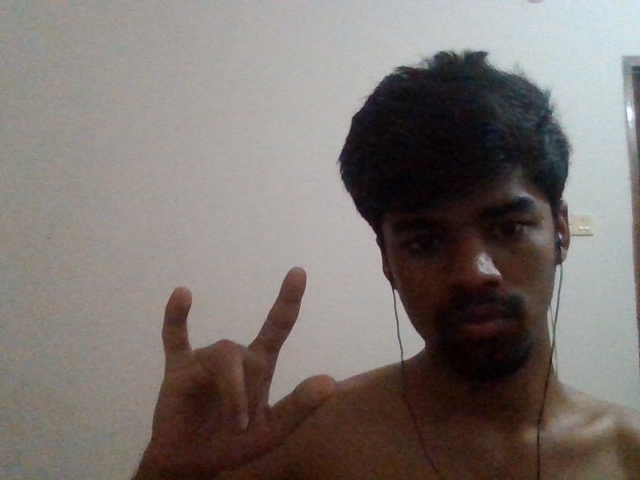ILoveYou: (139, 267, 340, 470)
